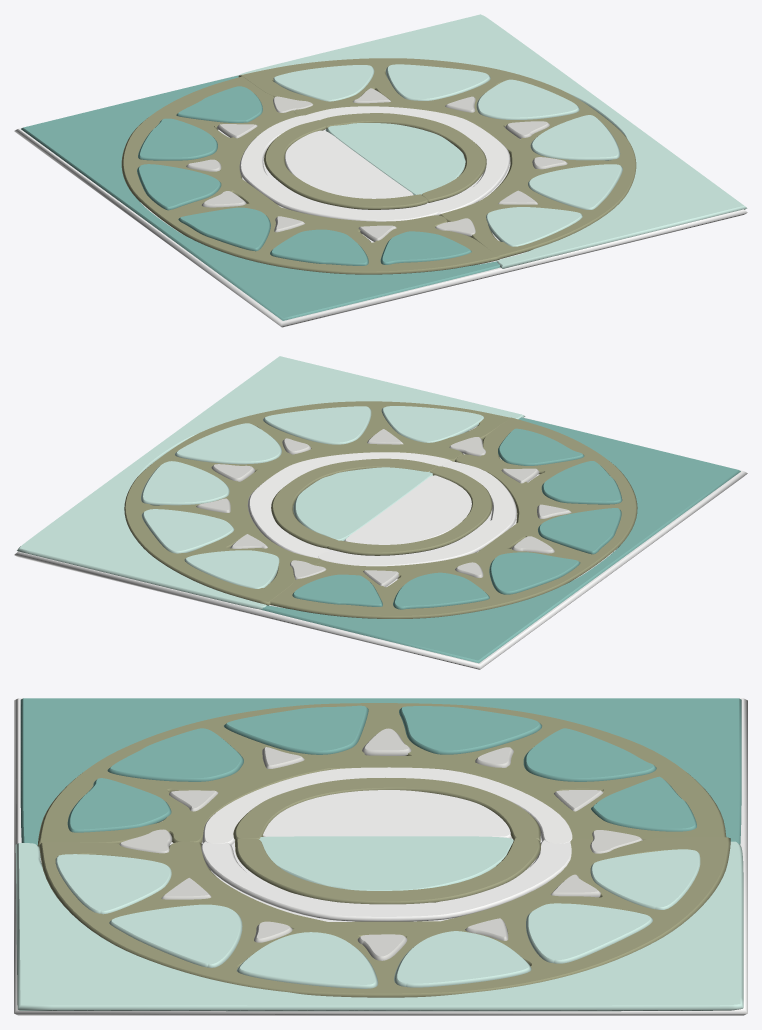
3 renders of one model, top to bottom at view 1: azimuth 30°, elevation 25°; view 2: azimuth 150°, elevation 25°; view 3: azimuth 270°, elevation 25°, orthographic. The views are drawn at different scales.
Visible parts, largest first — view 1: lateral1, lateral2, arabe1, dentes1, arabe2, dentes2, dentes2.001, azulejo, lua1, lua2, arco1, arco2 (+4 smaller); view 2: lateral1, lateral2, arabe1, dentes1, dentes2, arabe2, dentes2.001, azulejo, lua1, lua2, arco1, arco2 (+4 smaller); view 3: lateral1, arabe2, dentes1, lateral2, dentes2, arabe1, dentes2.001, lua1, lua2, arco2, azulejo, arco1 (+6 smaller).
Boxes of the visible parts, <box> form: lateral1: <box>239,14,747,268</box>; lateral2: <box>21,75,500,320</box>; arabe1: <box>121,76,500,274</box>; dentes1: <box>137,86,471,265</box>; arabe2: <box>238,58,636,258</box>; dentes2: <box>273,64,622,244</box>; dentes2.001: <box>273,65,622,246</box>; azulejo: <box>14,74,747,327</box>; lua1: <box>325,123,465,195</box>; lua2: <box>285,130,413,198</box>; arco1: <box>239,115,438,221</box>; arco2: <box>306,106,510,215</box>; lateral1: <box>17,356,525,609</box>; lateral2: <box>260,417,740,663</box>; arabe1: <box>270,417,637,618</box>; dentes1: <box>292,428,622,609</box>; dentes2: <box>141,406,480,588</box>; arabe2: <box>124,401,510,605</box>; dentes2.001: <box>145,406,483,587</box>; azulejo: <box>14,417,747,669</box>; lua1: <box>293,467,432,540</box>; lua2: <box>344,475,471,544</box>; arco1: <box>318,461,516,566</box>; arco2: <box>247,452,451,558</box>; lateral1: <box>15,841,743,1011</box>; arabe2: <box>39,837,730,997</box>; dentes1: <box>67,705,696,832</box>; lateral2: <box>20,698,741,846</box>; dentes2: <box>60,850,700,988</box>; arabe1: <box>37,703,726,846</box>; dentes2.001: <box>55,849,695,986</box>; lua1: <box>259,836,513,890</box>; lua2: <box>263,790,511,838</box>; arco2: <box>201,840,571,921</box>; azulejo: <box>14,698,747,1015</box>; arco1: <box>202,767,572,844</box>.
Bounding box in the file's own units: 2.02 × 0.058 × 2.
